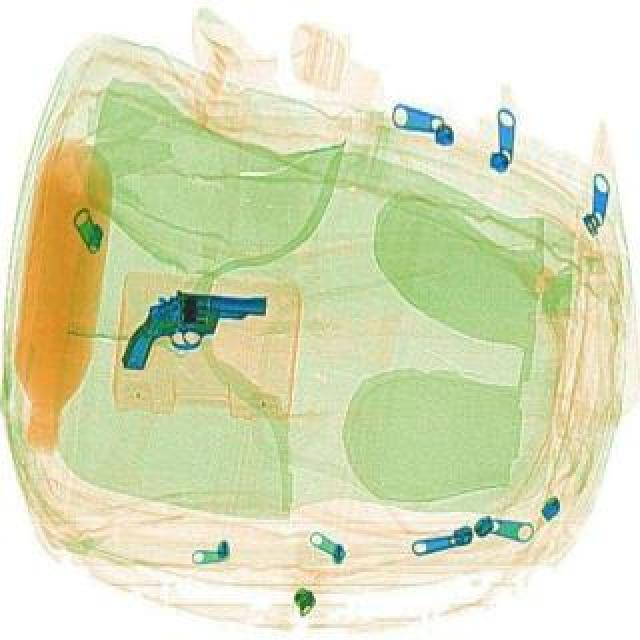gun: (106, 274, 274, 370)
